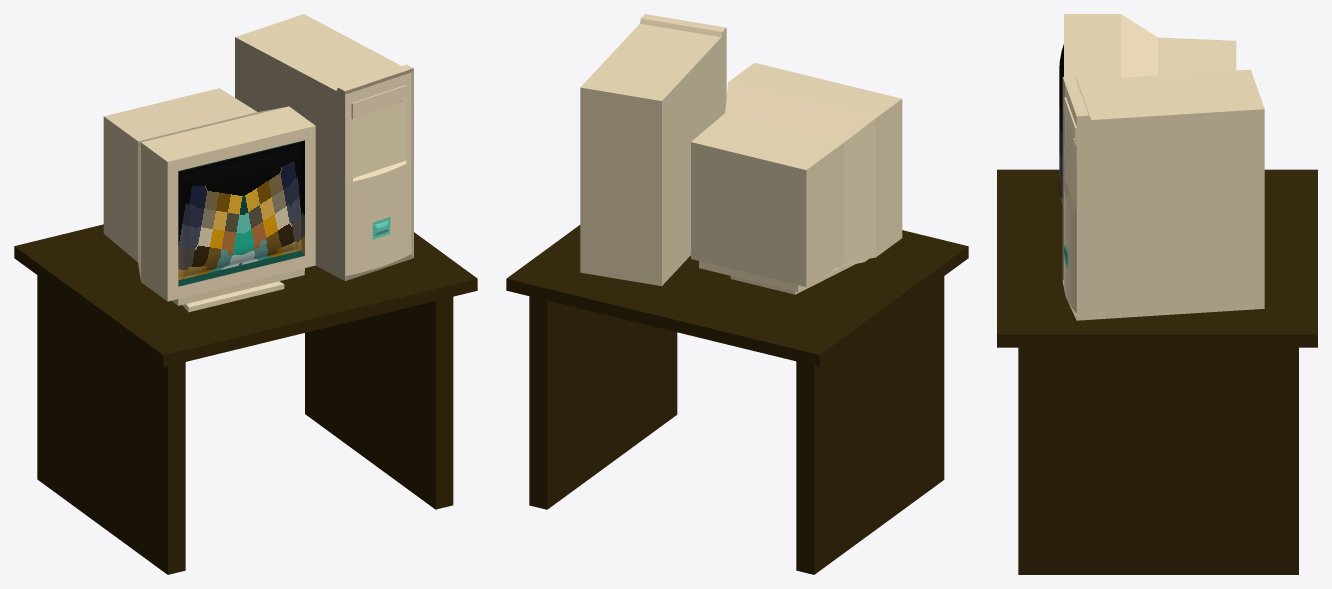
The model's file is oldComputer.fbx.
3 views of the same model, side by side, from view 1: azimuth 30°, elevation 25°; view 2: azimuth 150°, elevation 25°; view 3: azimuth 270°, elevation 25° (orthographic). The views are drawn at different scales.
Visible parts, largest first — view 1: Mesa, Monitor, Gabinete; view 2: Mesa, Monitor, Gabinete; view 3: Mesa, Gabinete, Monitor.
Part boxes in pixels (box(x1,y1,x2,y2)): Mesa: box(14, 224, 477, 574); Monitor: box(103, 88, 315, 312); Gabinete: box(235, 14, 413, 280); Mesa: box(506, 225, 968, 574); Monitor: box(691, 63, 902, 294); Gabinete: box(580, 14, 726, 286); Mesa: box(997, 169, 1317, 574); Gabinete: box(1062, 69, 1264, 320); Monitor: box(1059, 14, 1236, 204).
Bounding box in the file's own units: 855 × 1092 × 703.
1 material, 1 textured.
